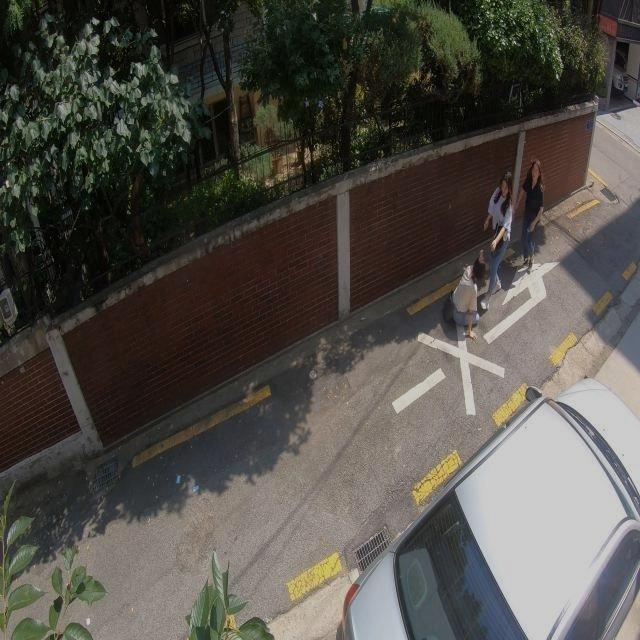fight: (452, 150, 547, 335)
